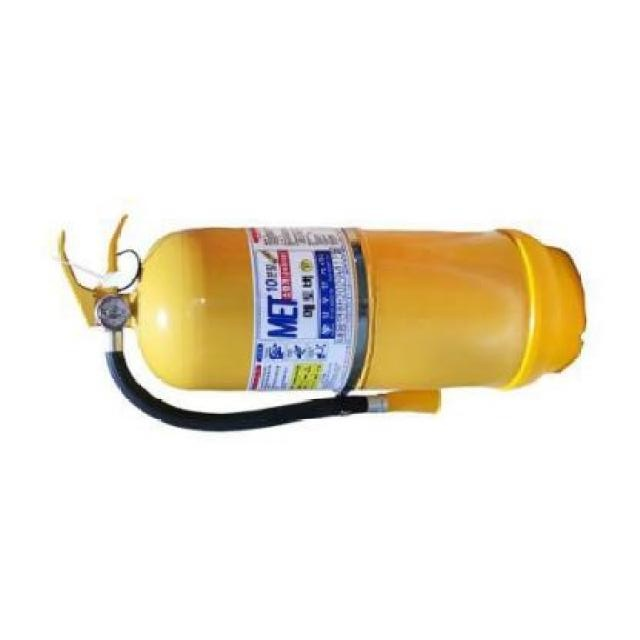fire extinguisher: (49, 213, 588, 432)
